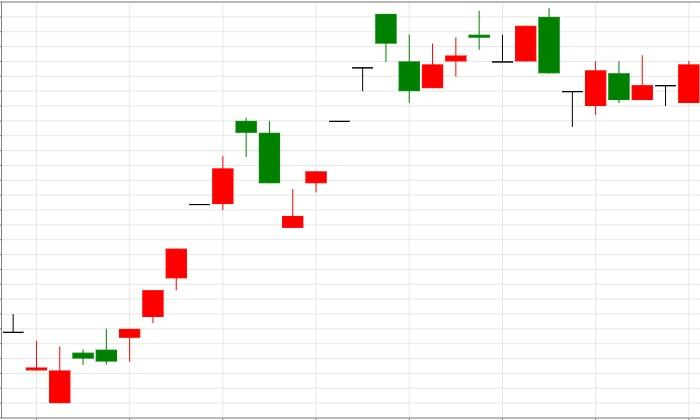evening_star_fall: (119, 118, 279, 361)
